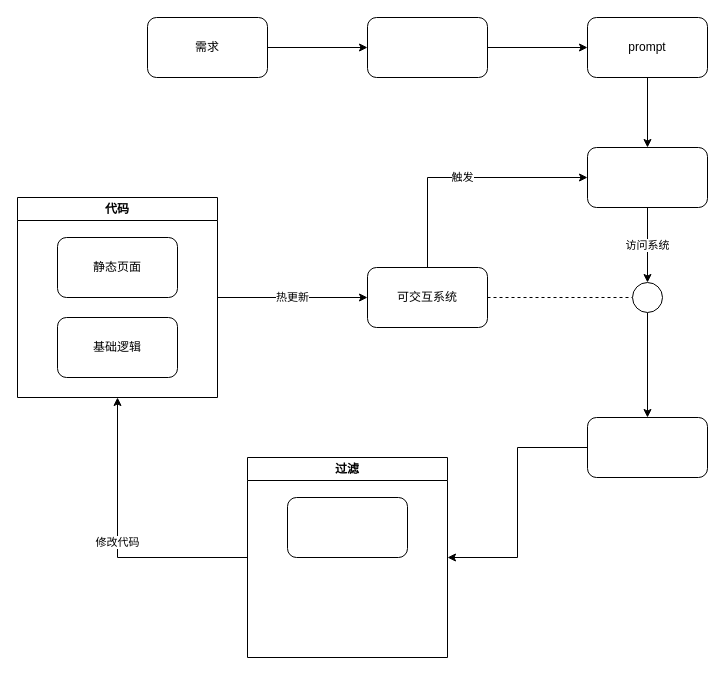
Image size: 725x675. Some labels were removed from this diagram. Each missing label, with the centre of its shape:
Chrome-MCP: point 647,177
元素问题: point 347,527
功能场景: point 427,47
执行结果: point 647,447
